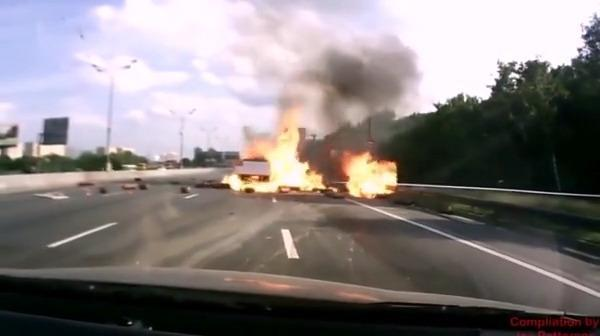fire: (214, 110, 402, 203)
